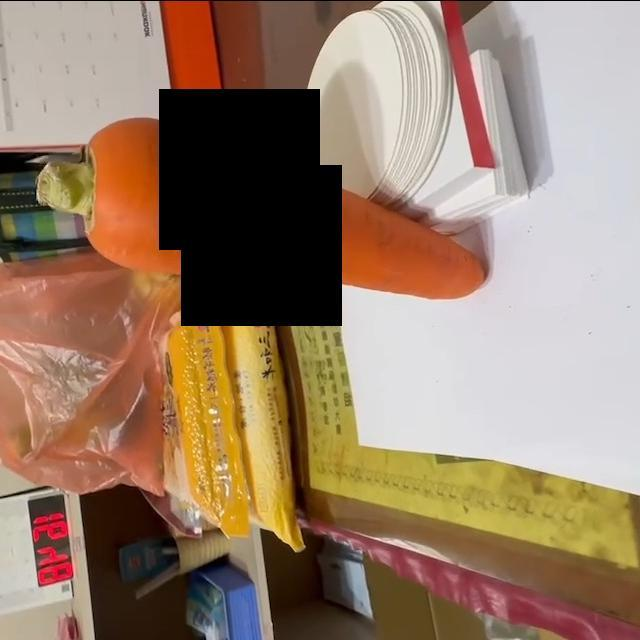carrot: (36, 117, 491, 302)
